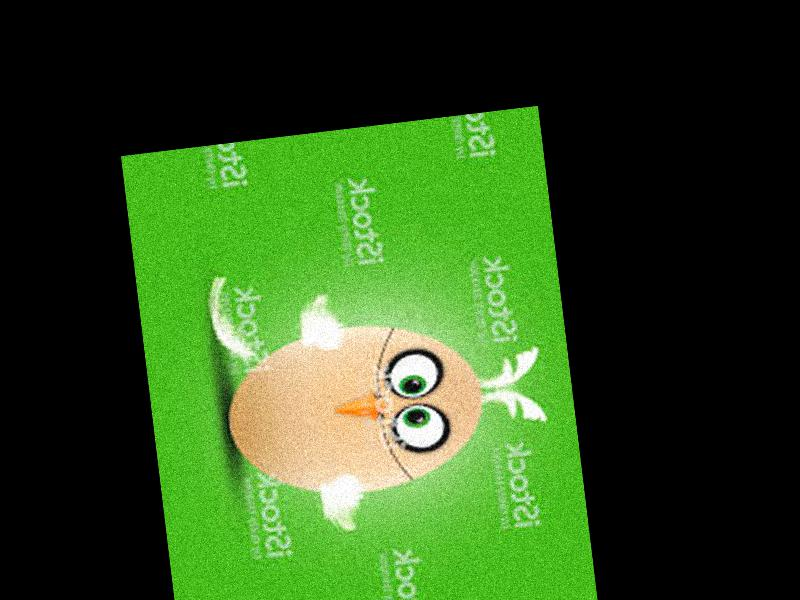Eggs: (217, 312, 491, 504)
